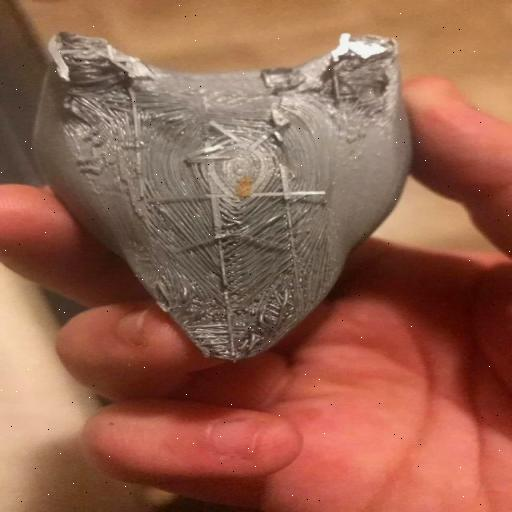cracks: (146, 269, 302, 361), (50, 26, 142, 169), (262, 40, 392, 130)
